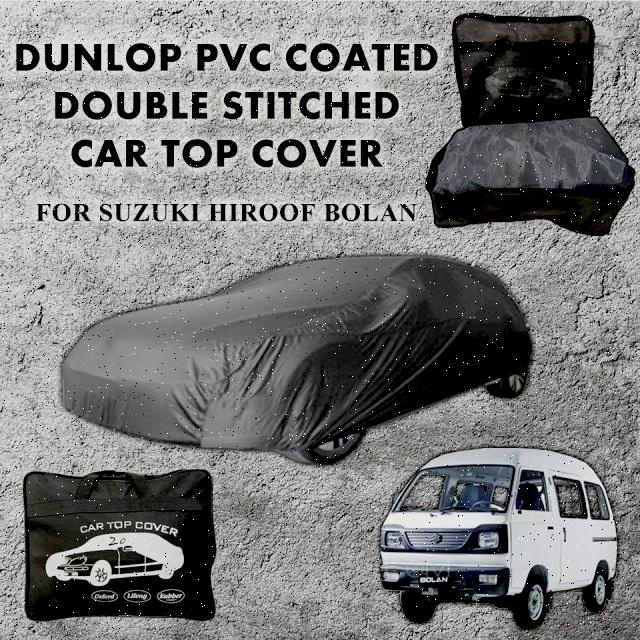Van: (372, 443, 619, 627)
